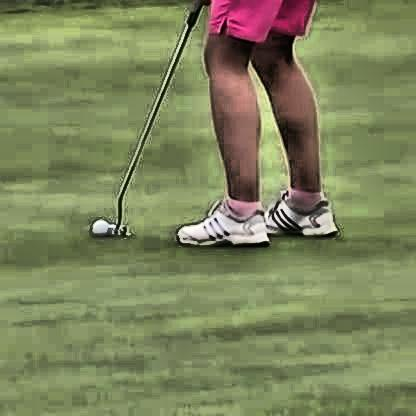golfball: (89, 214, 108, 233)
